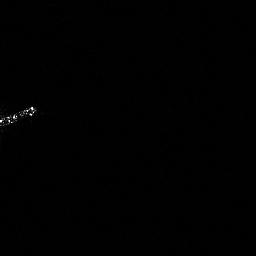ship: (1, 101, 39, 131)
